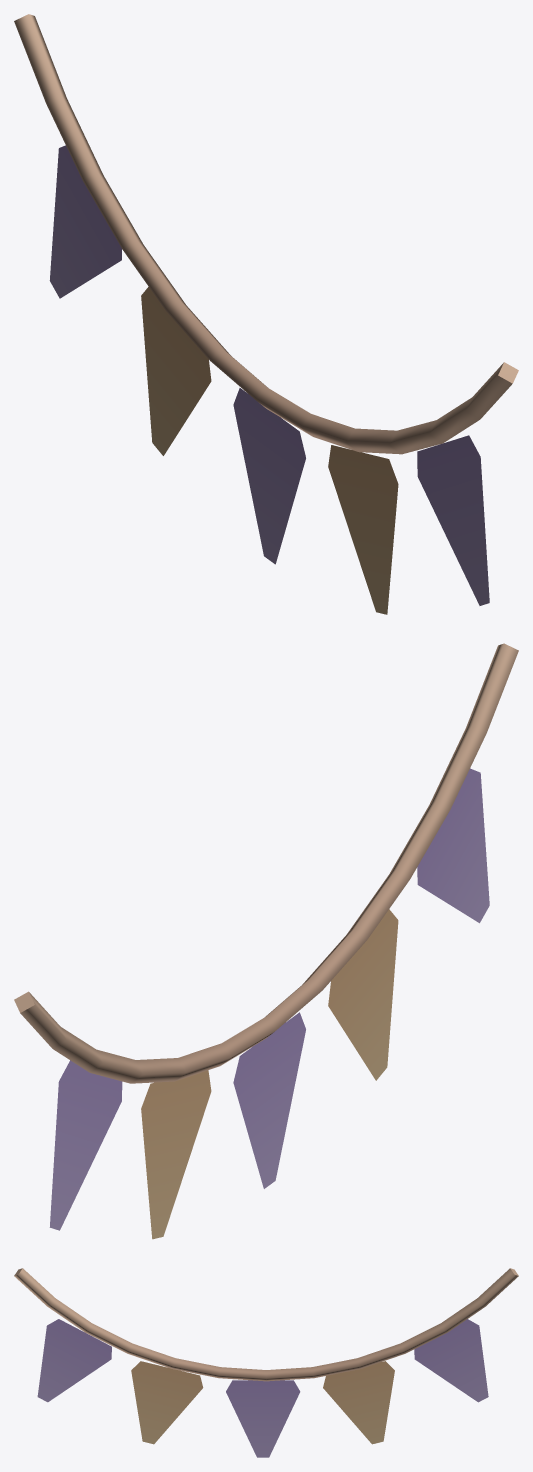
File: flags-b (%wall).glb
The picture shows the model from 3 angles, top to bottom: view 1: azimuth 30°, elevation 25°; view 2: azimuth 150°, elevation 25°; view 3: azimuth 270°, elevation 25°; orthographic projection. The views are drawn at different scales.
Parts seen in each view (by area): view 1: flags-b (%wall); view 2: flags-b (%wall); view 3: flags-b (%wall).
Part boxes in pixels (x1,y1,x2,y2): flags-b (%wall): [14, 14, 518, 614]; flags-b (%wall): [14, 643, 518, 1239]; flags-b (%wall): [14, 1268, 518, 1457].
Size of the model in its own units: 0.025 by 0.4218 by 1.02.
